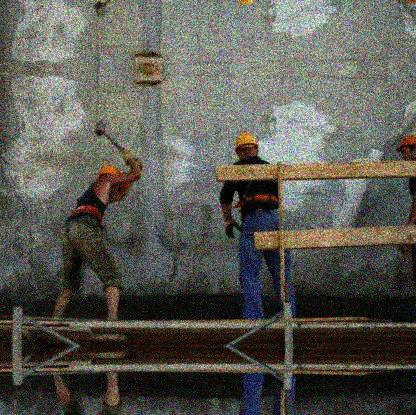helmet: (99, 165, 129, 197), (235, 130, 259, 158), (397, 135, 416, 160)
